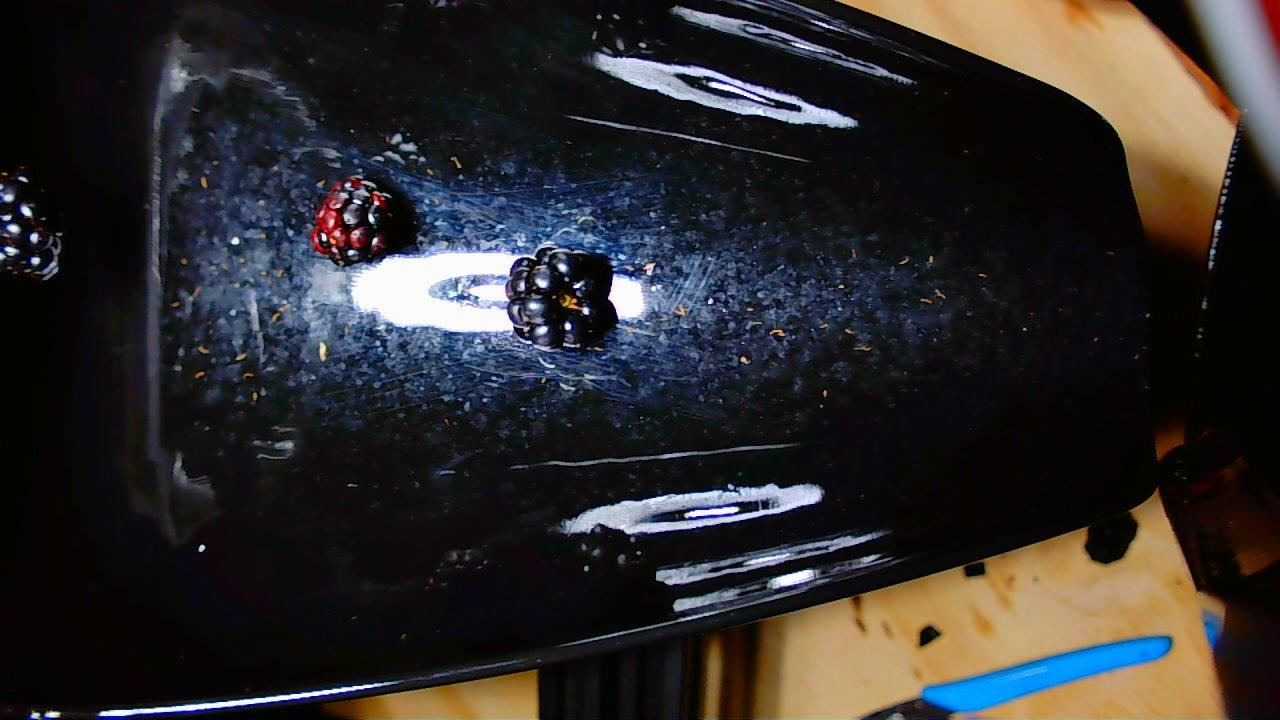berry: (506, 248, 616, 348), (310, 176, 406, 265), (0, 173, 59, 278)
